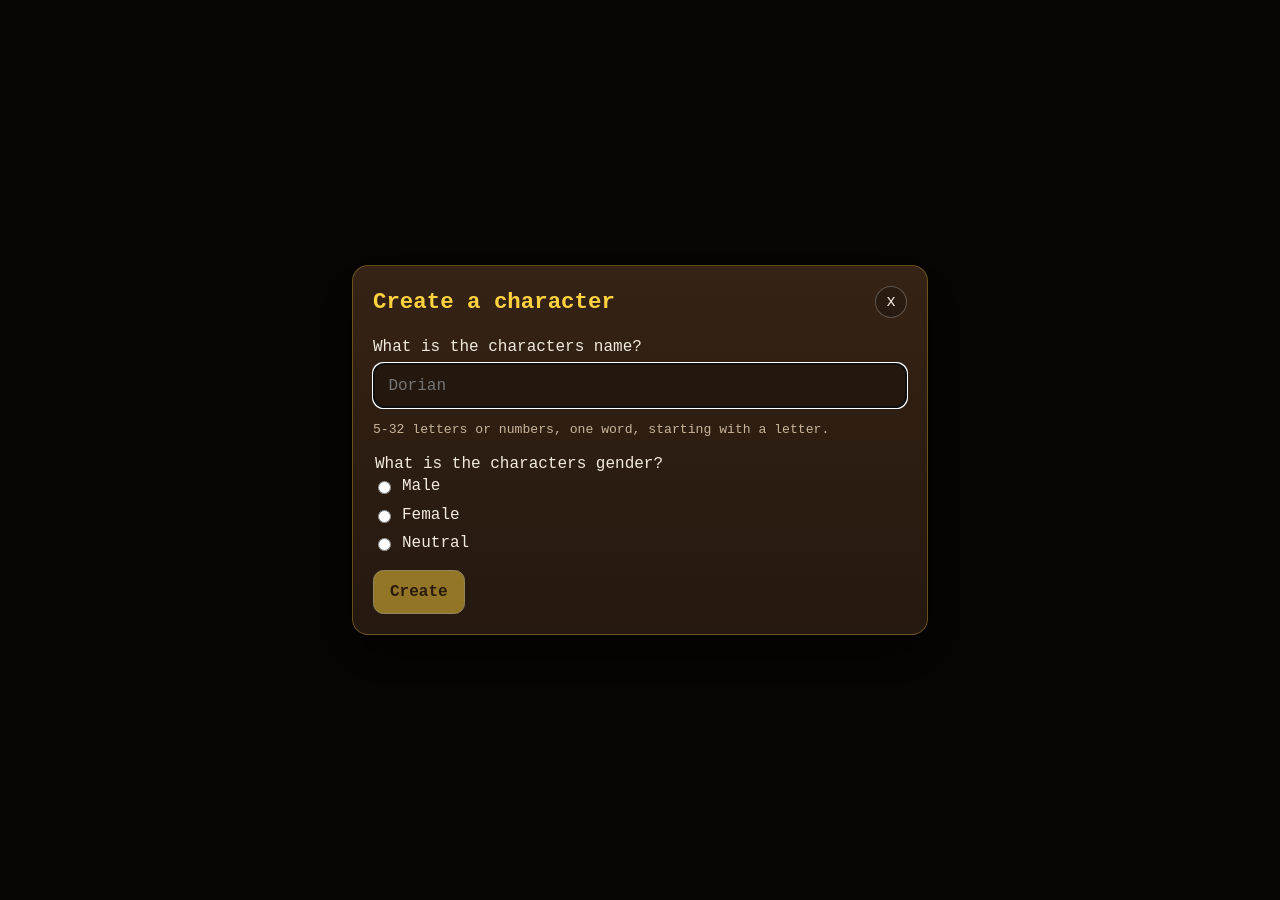
Test case: CharacterEntryModal › shows Unknown error when create rejects with a non-Error value
Type "dorian" into the field with placeholder "Dorian" at (640, 386), box [373, 363, 907, 408]
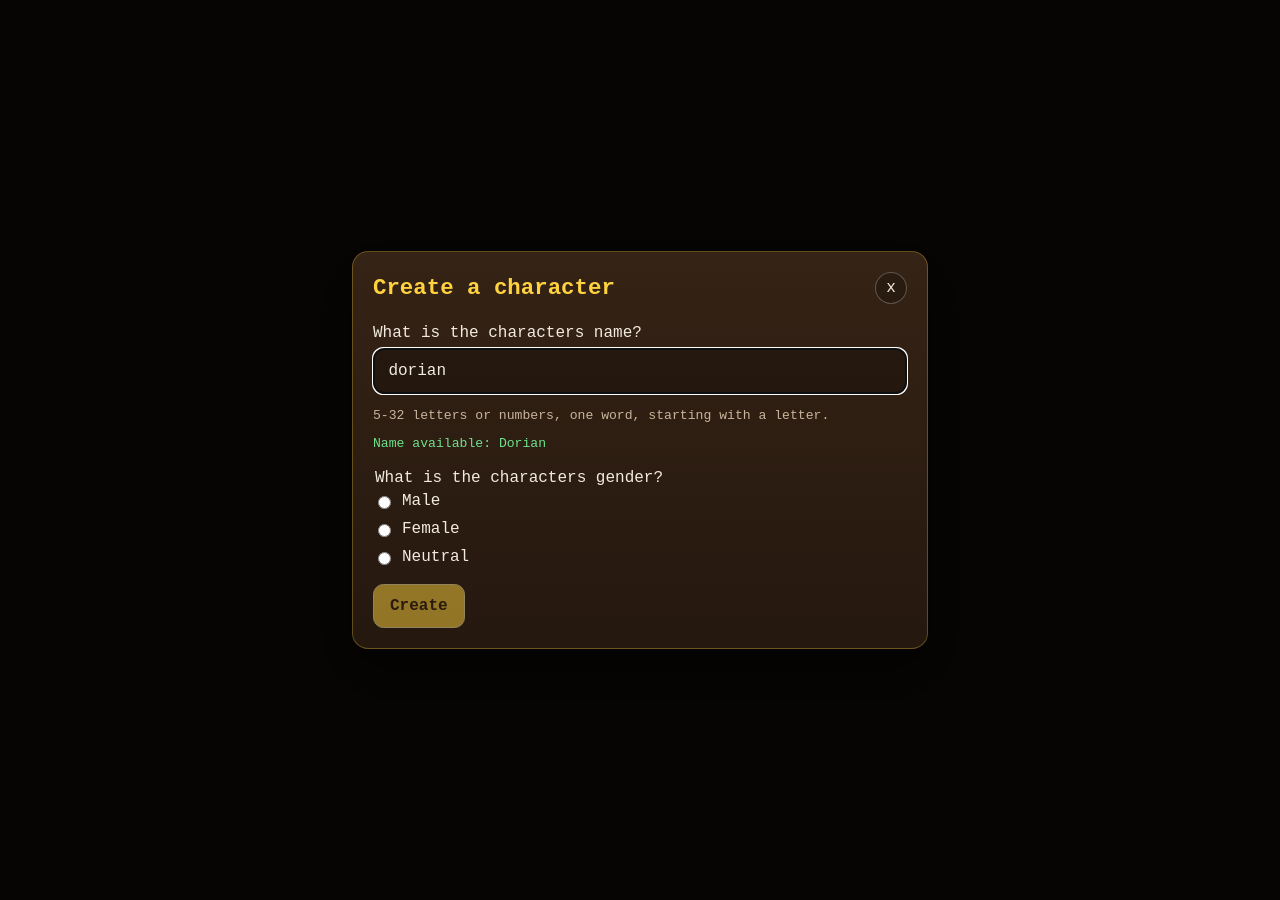
Check: the text "Name available: Dorian" is shown, box [373, 436, 546, 451]
Click the radio button labelled "Neutral" at (384, 559), box [378, 552, 391, 565]
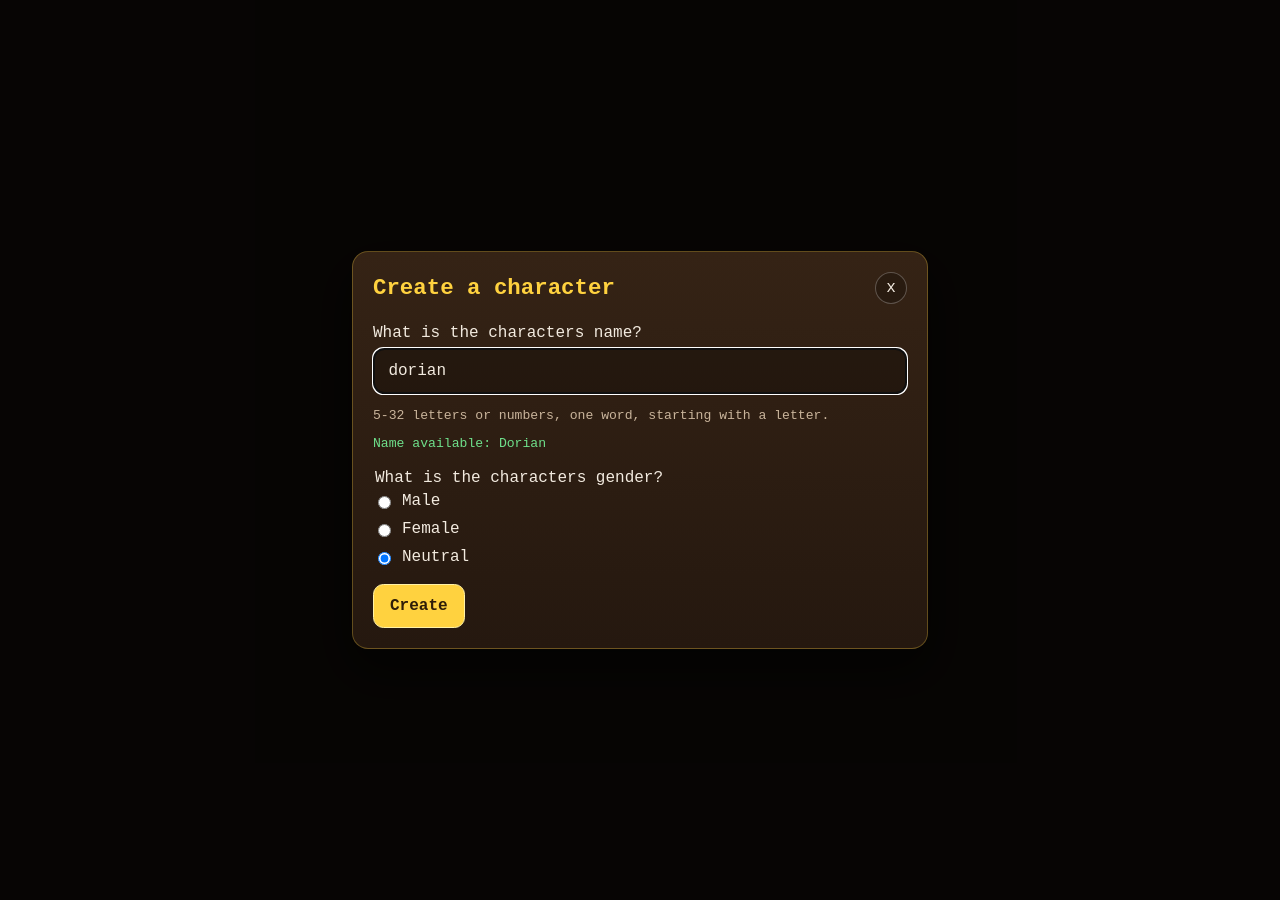
Click the button "Create" at (419, 606), box [373, 584, 465, 628]
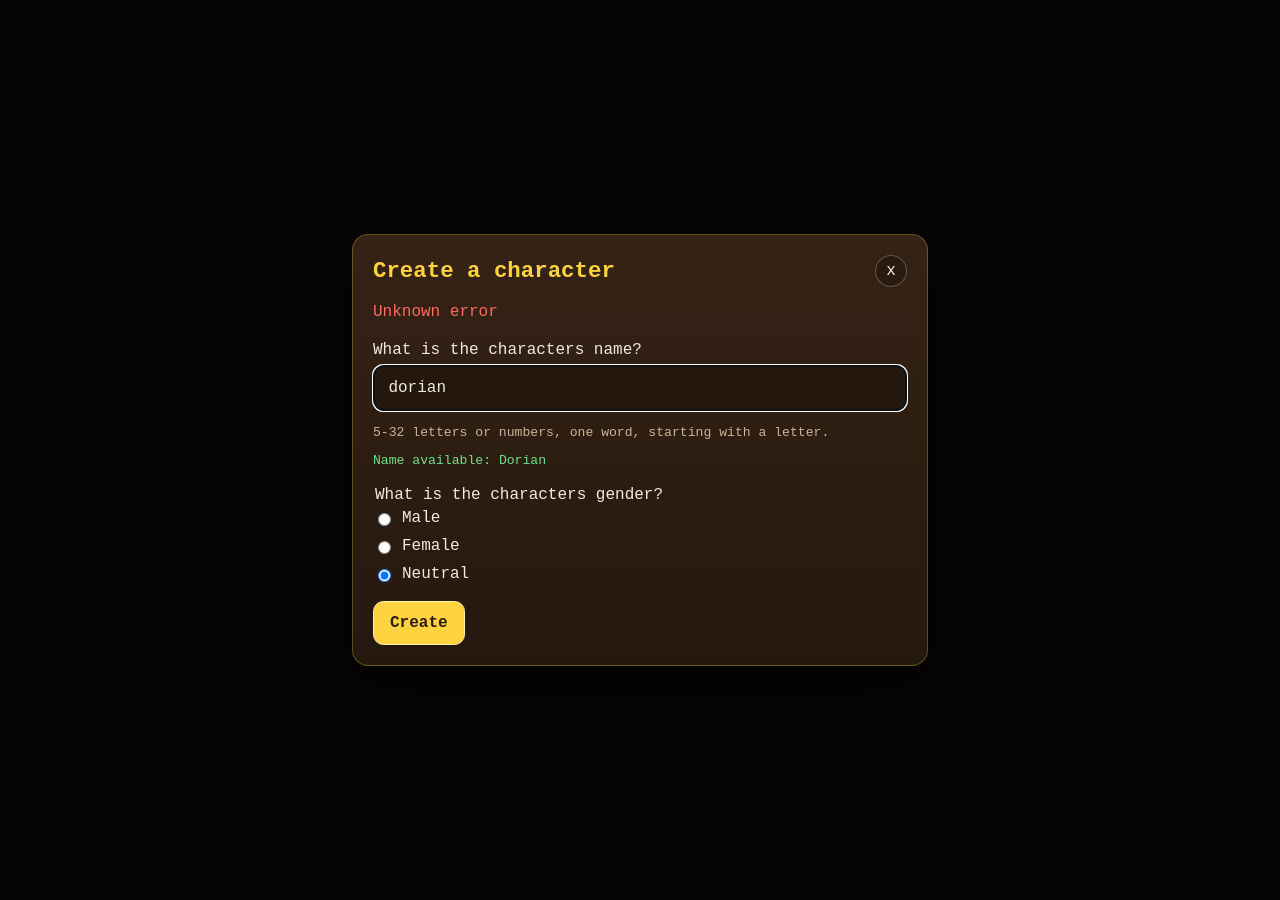
Check: the text "Unknown error" is shown, box [373, 303, 498, 321]
